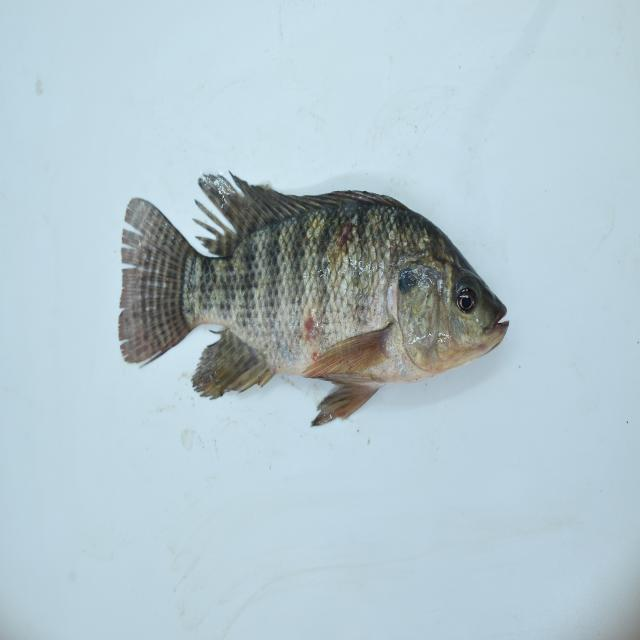Columnaris Disease: (112, 174, 520, 442)
